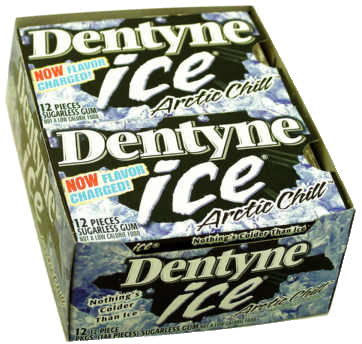grozi_22: (6, 0, 355, 342)
